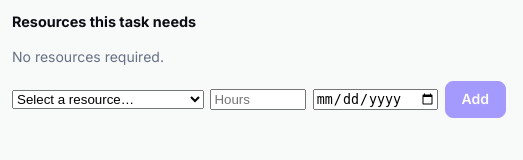
TaskResources — what a task needs › will not submit without both a resource and hours
Expected: the button with test id "task-resource-add-submit" is disabled, [444,81,506,118]
Select "RED Camera · Equipment" in the dropdown with test id "task-resource-picker" at (108, 100), box [12,90,204,109]
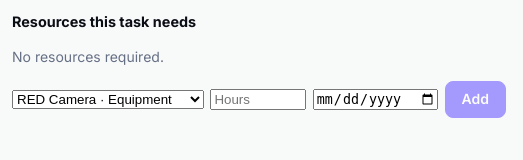
Expected: the button with test id "task-resource-add-submit" is disabled, [444,81,506,118]
Type "3" into the number field with test id "task-resource-hours" at (258, 100), box [210,89,306,110]
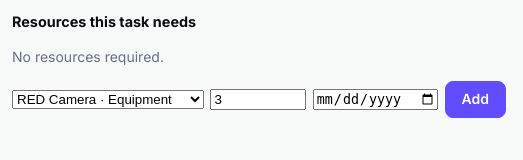
Now the button with test id "task-resource-add-submit" is enabled, box [444,81,506,118]
